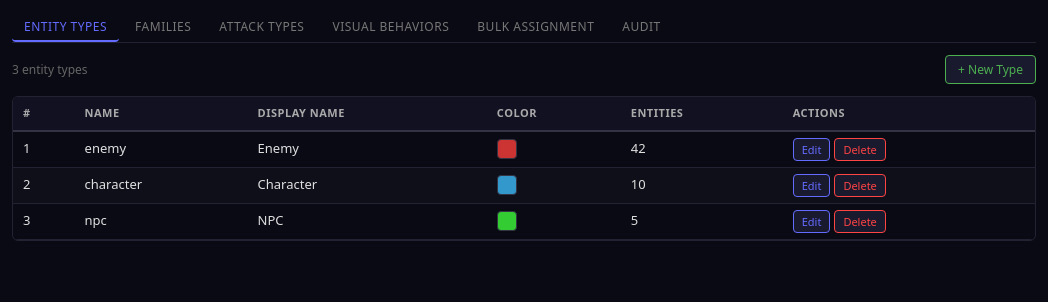
Test case: ClassificationEditor › clicking sub-tabs switches content
Expected: the text "Enemy" is shown, top-left (248, 131), bottom-right (487, 167)
// Click Families tab
Click the button "Families". click: (163, 27)
box: top-left (123, 12), bottom-right (203, 42)
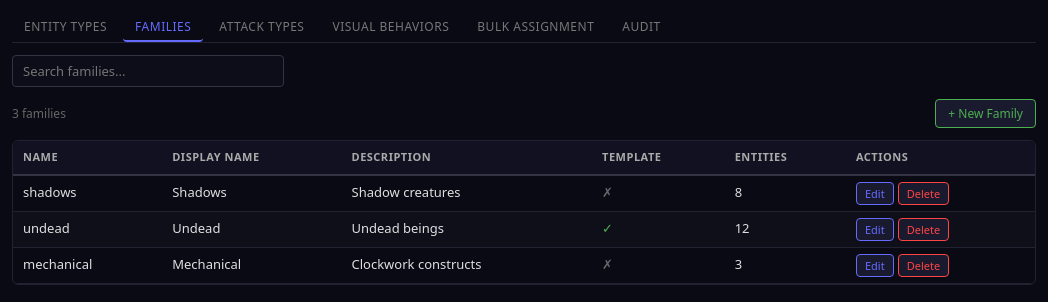
Now the text "Shadows" is shown, box top-left (162, 175), bottom-right (342, 211)
